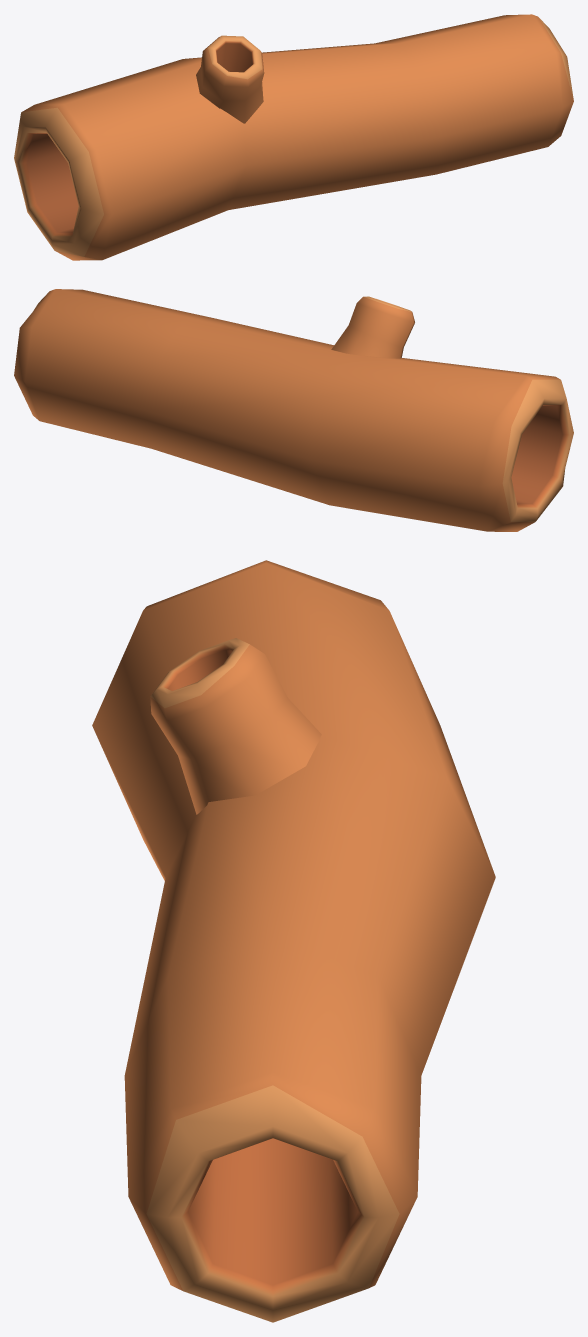
The model's file is platform_kit036.fbx.
3 renders of one model, top to bottom at view 1: azimuth 30°, elevation 25°; view 2: azimuth 150°, elevation 25°; view 3: azimuth 270°, elevation 25°, orthographic. The views are drawn at different scales.
Visible parts, largest first — view 1: platform_kit036; view 2: platform_kit036; view 3: platform_kit036.
Boxes of the visible parts, left/top/right/bottom form: platform_kit036: left=14, top=14, right=573, bottom=260; platform_kit036: left=14, top=289, right=573, bottom=531; platform_kit036: left=92, top=560, right=495, bottom=1322.
Bounding box in the file's own units: 231 × 84.19 × 80.2.
1 material, 1 textured.
